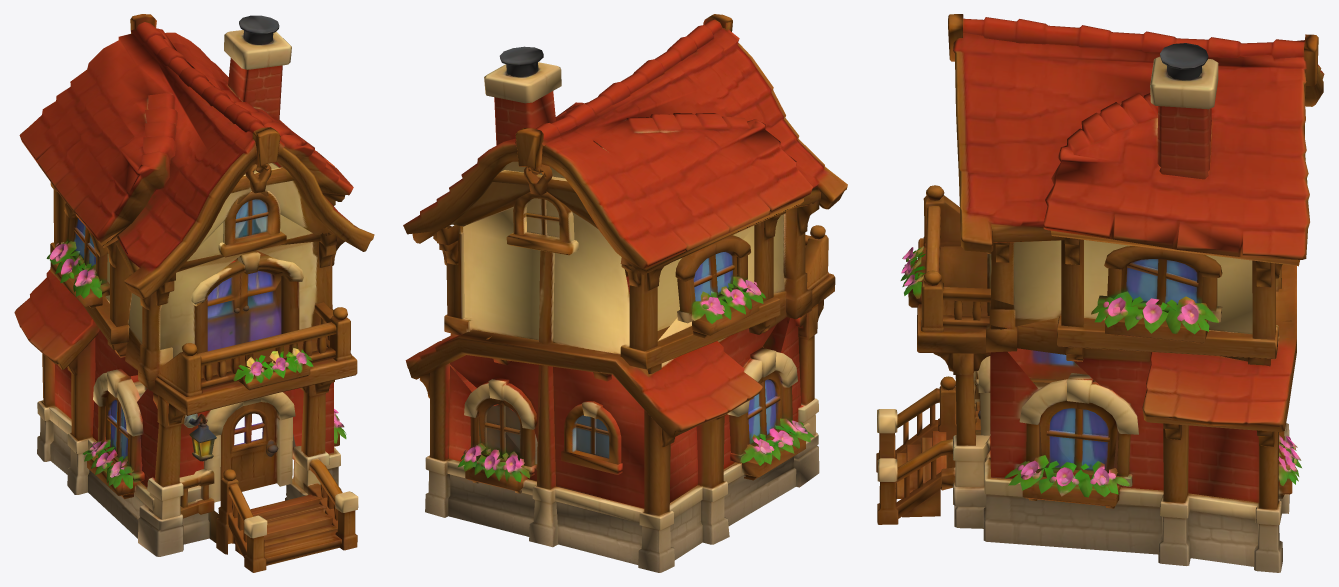
3 renders of one model, left to right at view 1: azimuth 30°, elevation 25°; view 2: azimuth 150°, elevation 25°; view 3: azimuth 270°, elevation 25°, orthographic. The views are drawn at different scales.
Visible parts, largest first — view 1: house-tier3; view 2: house-tier3; view 3: house-tier3.
Part boxes in pixels (bbox=[...]): house-tier3: bbox=[14, 14, 374, 572]; house-tier3: bbox=[403, 14, 847, 572]; house-tier3: bbox=[876, 14, 1324, 572].
Size of the model in its own units: 6.06 by 8.37 by 6.93.
Materials: 1 (1 with a texture image).
